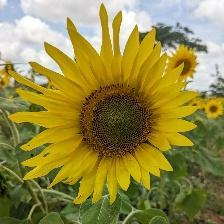sunflower: (10, 4, 201, 208)
